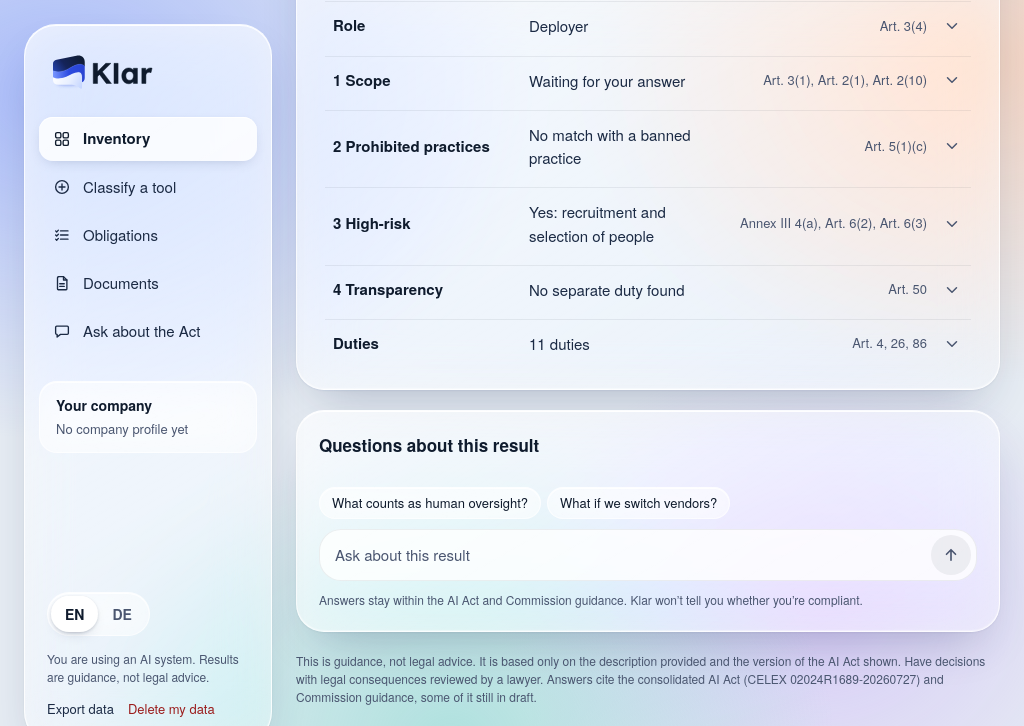
Questions about this result › moves the focus to the field after a suggestion, so Enter asks it
(page scrolled)
Click the button "What if we switch vendors?". click: x=639, y=503
box: x1=547 y1=487 x2=730 y2=519
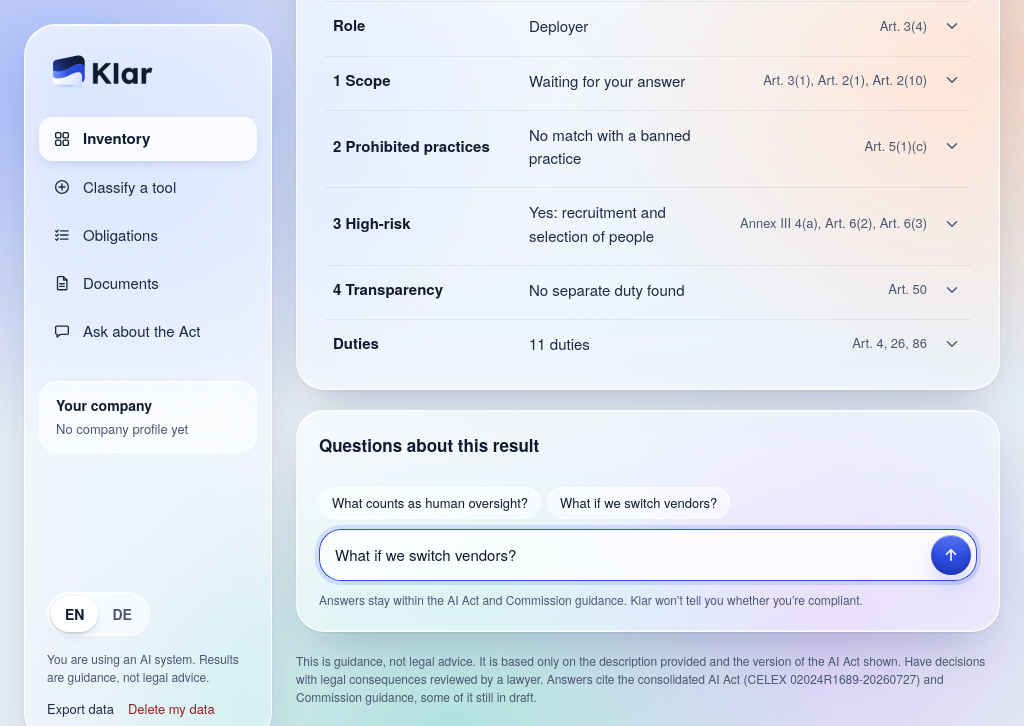
Press Enter
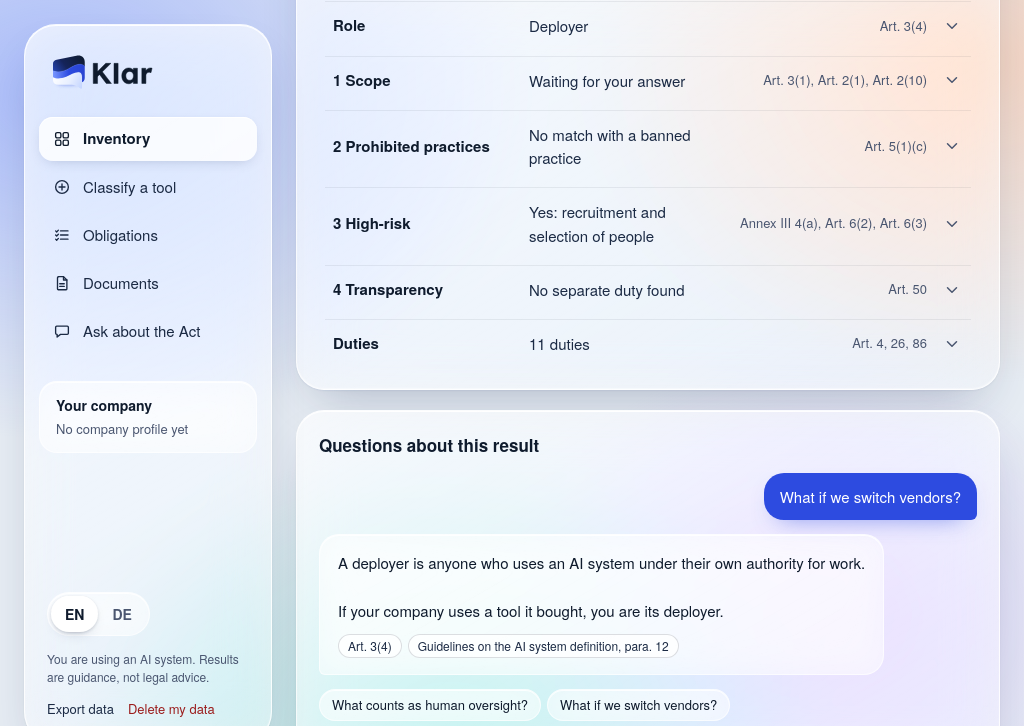
Expected: the text "A deployer is anyone" is shown, x1=338 y1=552 x2=865 y2=621
